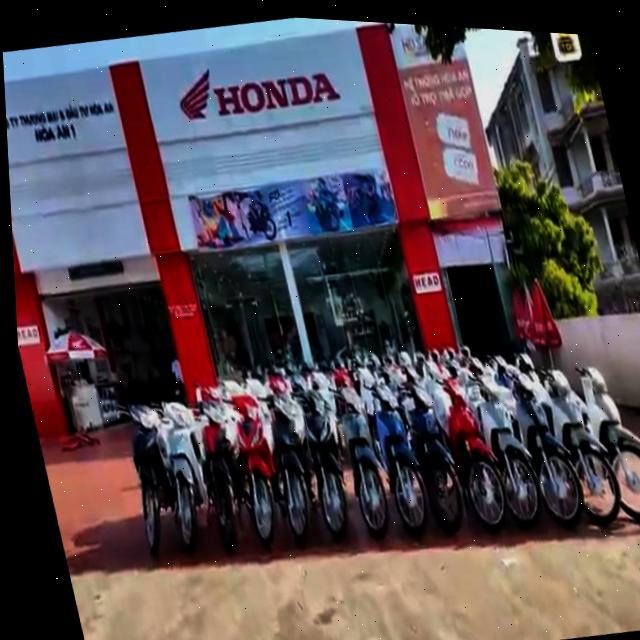motorcycle: (537, 359, 628, 533), (505, 367, 590, 533), (176, 388, 256, 554), (470, 369, 550, 533), (437, 373, 515, 535), (569, 354, 640, 529), (324, 380, 400, 542), (108, 392, 179, 562), (398, 376, 470, 541), (147, 394, 219, 558), (219, 388, 291, 552), (258, 386, 327, 548), (290, 383, 358, 543), (368, 381, 431, 536)
